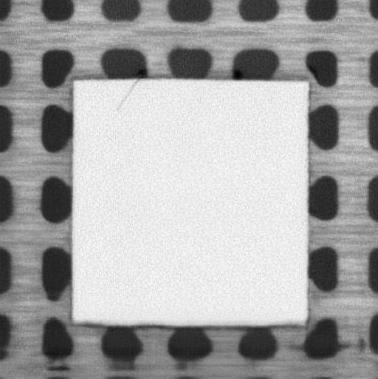DIE_CRACK: (117, 79, 142, 108)
